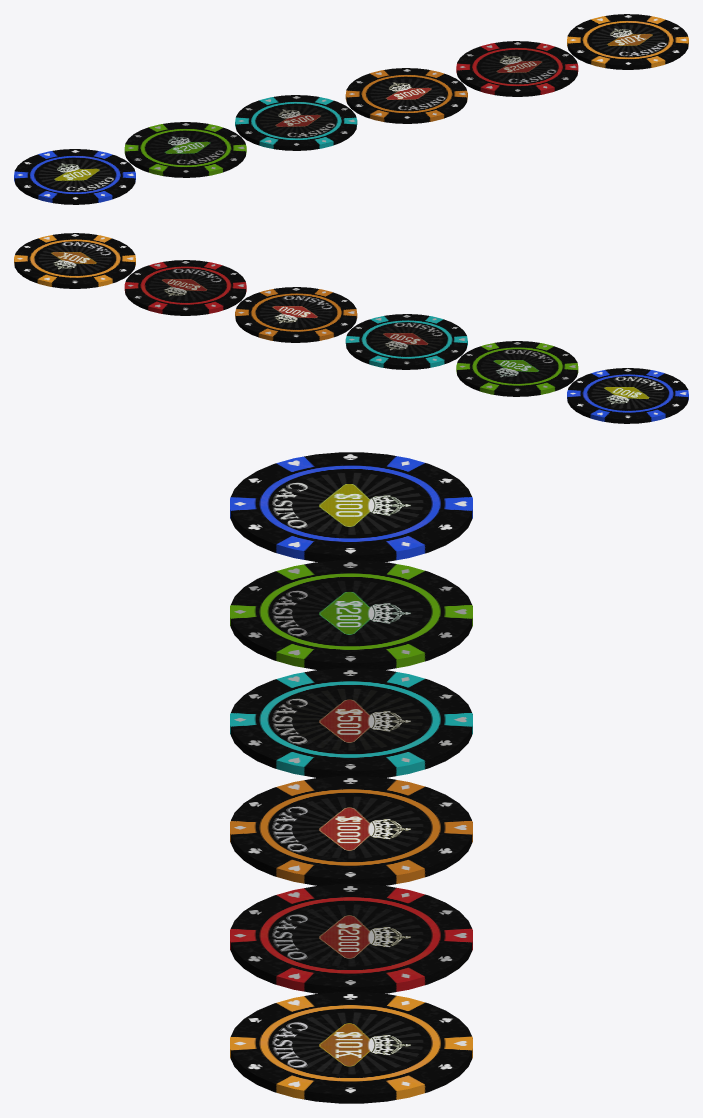
The model's file is chips_lowpoly.glb.
3 views of the same model, one above another, from view 1: azimuth 30°, elevation 25°; view 2: azimuth 150°, elevation 25°; view 3: azimuth 270°, elevation 25° (orthographic). The views are drawn at different scales.
Visible parts, largest first — view 1: Poker_chip_200_2, Poker_Chip_2000_5, Poker_Chip_10k_0, Poker_Chip_100_1, Poker_Chip_500_3, Poker_Chip_1000_4; view 2: Poker_chip_200_2, Poker_Chip_2000_5, Poker_Chip_10k_0, Poker_Chip_100_1, Poker_Chip_500_3, Poker_Chip_1000_4; view 3: Poker_Chip_10k_0, Poker_Chip_500_3, Poker_chip_200_2, Poker_Chip_100_1, Poker_Chip_1000_4, Poker_Chip_2000_5.
Part boxes in pixels (x1,y1,x2,y2): Poker_chip_200_2: [124, 122, 246, 177]; Poker_Chip_2000_5: [456, 41, 578, 96]; Poker_Chip_10k_0: [567, 14, 688, 69]; Poker_Chip_100_1: [14, 149, 135, 204]; Poker_Chip_500_3: [235, 95, 357, 150]; Poker_Chip_1000_4: [345, 68, 467, 123]; Poker_chip_200_2: [456, 341, 578, 396]; Poker_Chip_2000_5: [124, 260, 246, 315]; Poker_Chip_10k_0: [14, 233, 135, 288]; Poker_Chip_100_1: [567, 368, 688, 423]; Poker_Chip_500_3: [345, 314, 467, 369]; Poker_Chip_1000_4: [235, 287, 357, 342]; Poker_Chip_10k_0: [230, 992, 472, 1103]; Poker_Chip_500_3: [230, 668, 472, 777]; Poker_chip_200_2: [230, 560, 472, 669]; Poker_Chip_100_1: [230, 452, 472, 561]; Poker_Chip_1000_4: [230, 776, 472, 885]; Poker_Chip_2000_5: [230, 884, 472, 993].
Size of the model in its own units: 0.2989 by 0.0019 by 0.0478.
Materials: 6 (6 with a texture image).
